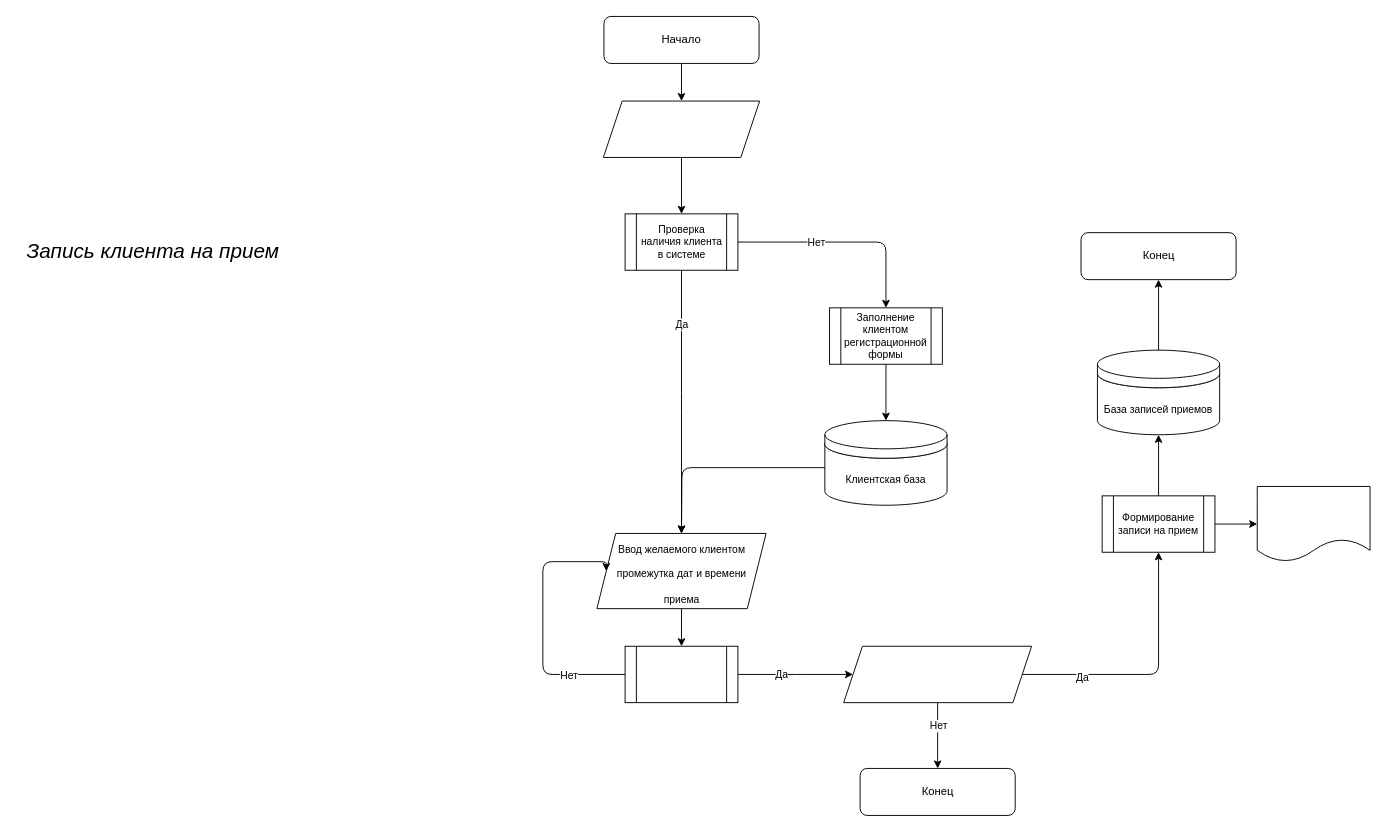
Image size: 1387x832. Some labels were removed from this diagram. Here are the shapes that lost their labels. From the top down, the centre of each, then its label:
At (681,128): "Ввод ФИО клиента".
At (1313,524): "Информация о приеме".
At (681,674): "Поиск свободных мест для записи на прием".
At (937,674): "Подтверждение пользователя".
